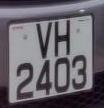0: (53, 55, 72, 95)
2: (13, 58, 36, 104)
3: (71, 54, 89, 93)
4: (34, 58, 54, 97)
H: (51, 17, 75, 58)
V: (34, 20, 55, 59)
